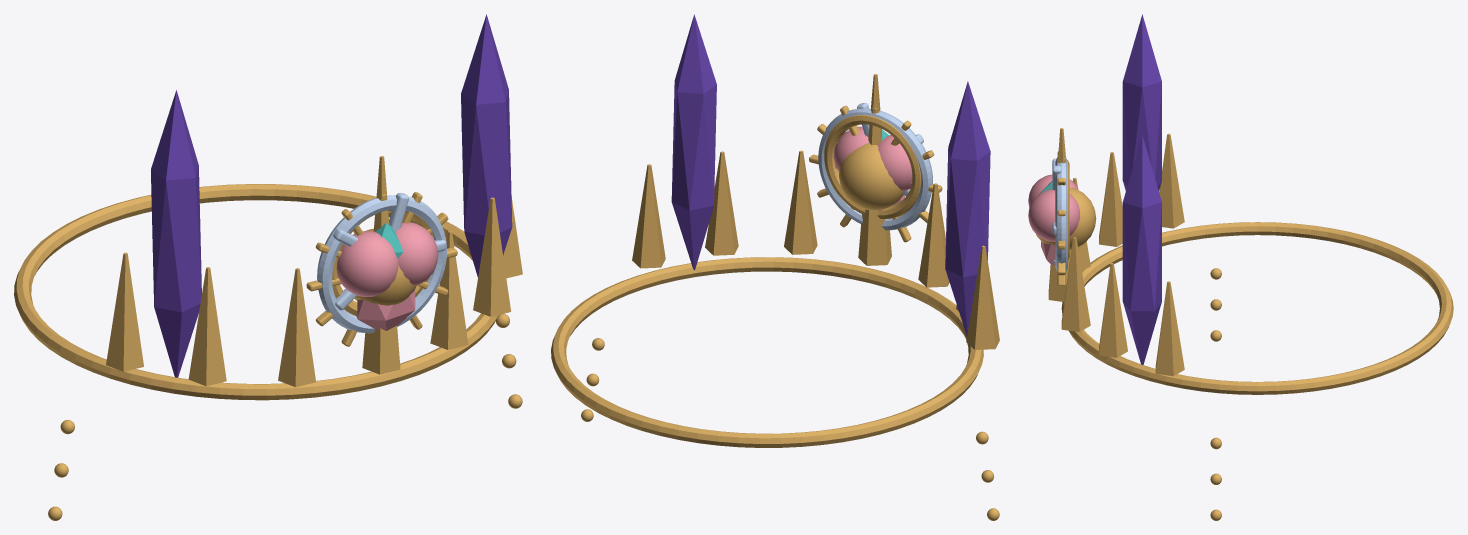
File: archetype-crowns.glb
3 renders of one model, left to right at view 1: azimuth 30°, elevation 25°; view 2: azimuth 150°, elevation 25°; view 3: azimuth 270°, elevation 25°, orthographic. The views are drawn at different scales.
Visible parts, largest first — view 1: Diadem, Oracle horn, Oracle horn.001, Lunar crescent, Heart lobe, Crown spire, Crown spire.001, Crown spire.005, Crown spire.002, Crown spire.004, Crown spire.003, Heart lobe.001 (+4 smaller); view 2: Diadem, Oracle horn.001, Oracle horn, Solar gem, Lunar crescent, Arcane orbit, Crown spire.004, Crown spire, Crown spire.006, Crown spire.005, Crown spire.003, Crown spire.002 (+2 smaller); view 3: Diadem, Oracle horn.001, Oracle horn, Crown spire.004, Crown spire.006, Crown spire.005, Crown spire.001, Heart lobe.001, Crown spire, Lunar crescent, Solar gem, Crown spire.003.
Boxes of the visible parts, x1,y1,x2,y2 form: Diadem: (14, 184, 498, 400); Oracle horn: (151, 90, 201, 377); Oracle horn.001: (461, 14, 512, 277); Lunar crescent: (317, 195, 446, 333); Heart lobe: (336, 231, 398, 296); Crown spire: (106, 252, 143, 371); Crown spire.001: (188, 267, 226, 386); Crown spire.005: (473, 197, 511, 316); Crown spire.002: (278, 268, 315, 387); Crown spire.004: (430, 231, 468, 349); Crown spire.003: (362, 156, 400, 374); Heart lobe.001: (395, 222, 438, 285); Diadem: (551, 257, 983, 447); Oracle horn.001: (671, 14, 716, 270); Oracle horn: (945, 81, 990, 335); Solar gem: (839, 143, 904, 210); Lunar crescent: (818, 108, 932, 230); Arcane orbit: (824, 115, 921, 218); Crown spire.004: (784, 150, 817, 254); Crown spire: (966, 245, 999, 349); Crown spire.006: (632, 164, 665, 268); Crown spire.005: (705, 151, 738, 255); Crown spire.003: (858, 74, 891, 265); Crown spire.002: (918, 183, 949, 287); Diadem: (1061, 222, 1453, 394); Oracle horn.001: (1122, 135, 1161, 364); Oracle horn: (1122, 14, 1161, 190); Crown spire.004: (1061, 237, 1090, 331); Crown spire.006: (1155, 281, 1184, 376); Crown spire.005: (1099, 263, 1127, 357); Crown spire.001: (1099, 152, 1122, 246); Heart lobe.001: (1028, 189, 1079, 241); Crown spire: (1159, 133, 1184, 228); Lunar crescent: (1055, 157, 1067, 271); Solar gem: (1036, 187, 1096, 250); Crown spire.003: (1048, 128, 1071, 301).
Size of the model in its own units: 1.89 by 1.71 by 1.84.
